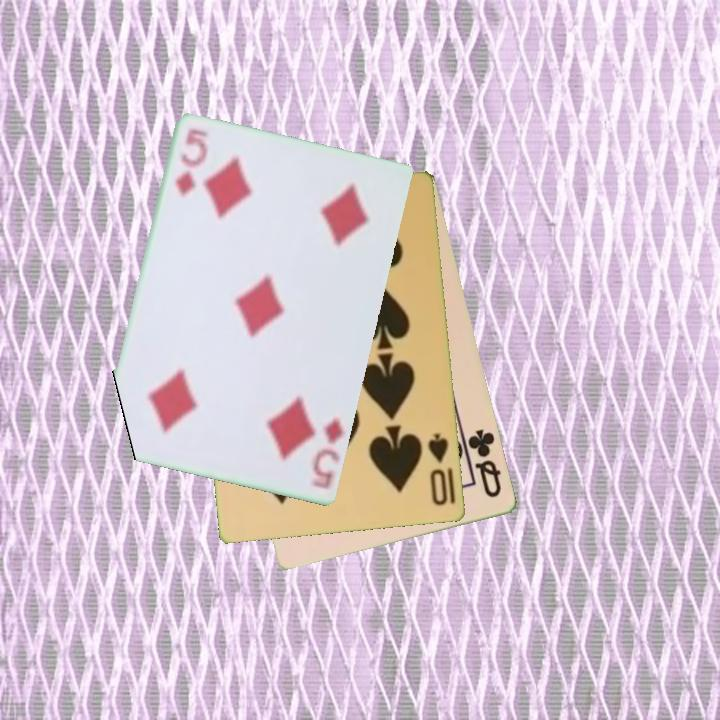10s: (425, 430, 452, 509)
5d: (310, 413, 348, 492), (172, 126, 208, 200)
Qc: (464, 425, 505, 501)
